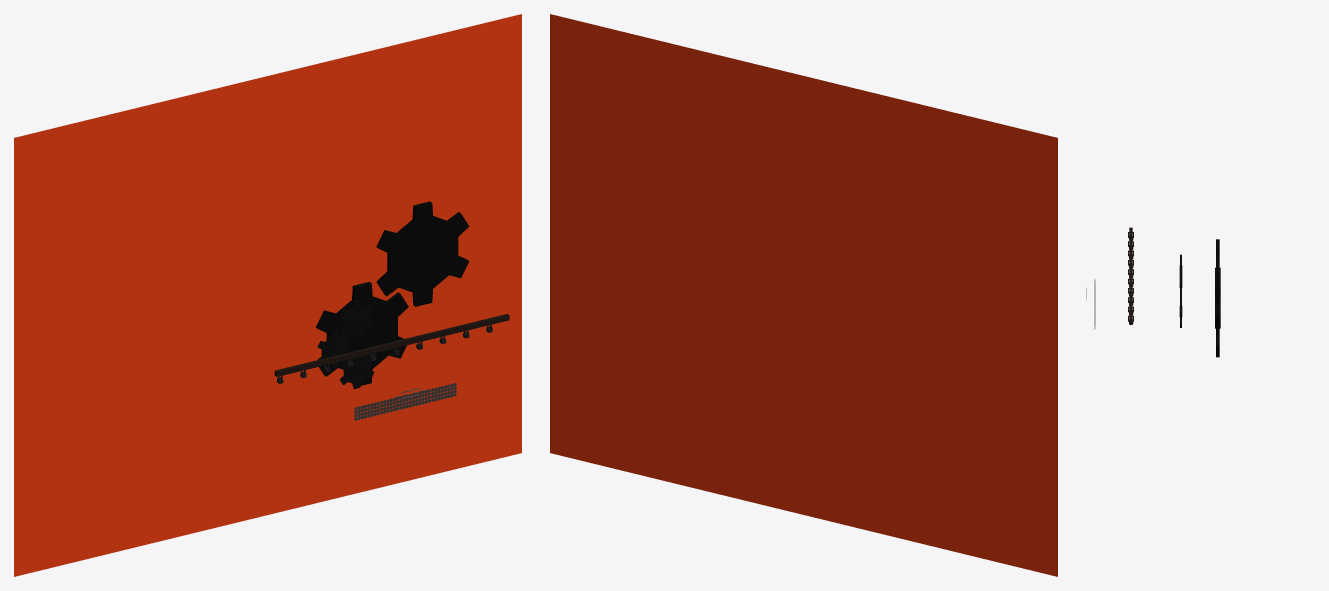
Rendered from Gears_Level (1).FBX.
The picture shows the model from 3 angles, left to right: view 1: azimuth 30°, elevation 25°; view 2: azimuth 150°, elevation 25°; view 3: azimuth 270°, elevation 25°; orthographic projection. The views are drawn at different scales.
Visible parts, largest first — view 1: Plane001, Cylinder025, Cylinder024, Box002, Cylinder023, Cylinder026, Cylinder022; view 2: Plane001; view 3: Cylinder025, Box002.
Boxes of the visible parts, bbox=[...] form: Plane001: bbox=[14, 14, 521, 576]; Cylinder025: bbox=[376, 201, 469, 306]; Cylinder024: bbox=[316, 282, 408, 385]; Box002: bbox=[274, 314, 509, 376]; Cylinder023: bbox=[339, 300, 374, 339]; Cylinder026: bbox=[339, 349, 374, 388]; Cylinder022: bbox=[317, 330, 352, 369]; Plane001: bbox=[550, 14, 1057, 576]; Cylinder025: bbox=[1215, 239, 1220, 327]; Box002: bbox=[1129, 227, 1132, 324].
Size of the model in its own units: 10484 by 8663 by 4988.
